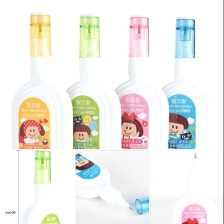correction_fluid: (7, 9, 74, 171), (105, 12, 170, 170), (60, 11, 124, 171), (155, 15, 216, 170), (56, 148, 135, 212), (17, 149, 66, 224), (171, 149, 220, 224)
